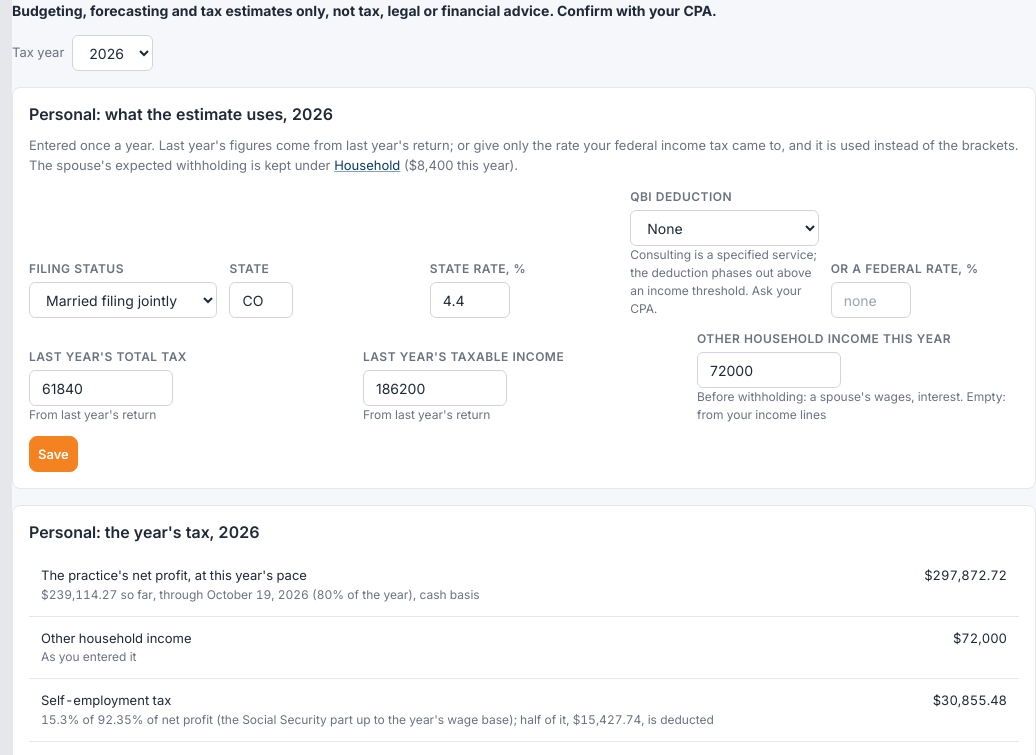
Scenario: the Taxes page (P6 M4 stop 4, decision 21) › offers the QBI deduction, off by default, with its note, and shows it when on
Expected: the text "Consulting is a specified service; the deduction phases out" is shown, x1=630 y1=247 x2=817 y2=316
Expected: the text "Less the QBI deduction" is not shown
Select "20% of net profit" in the dropdown named "QBI deduction" at (724, 228), box x1=630 y1=210 x2=819 y2=246
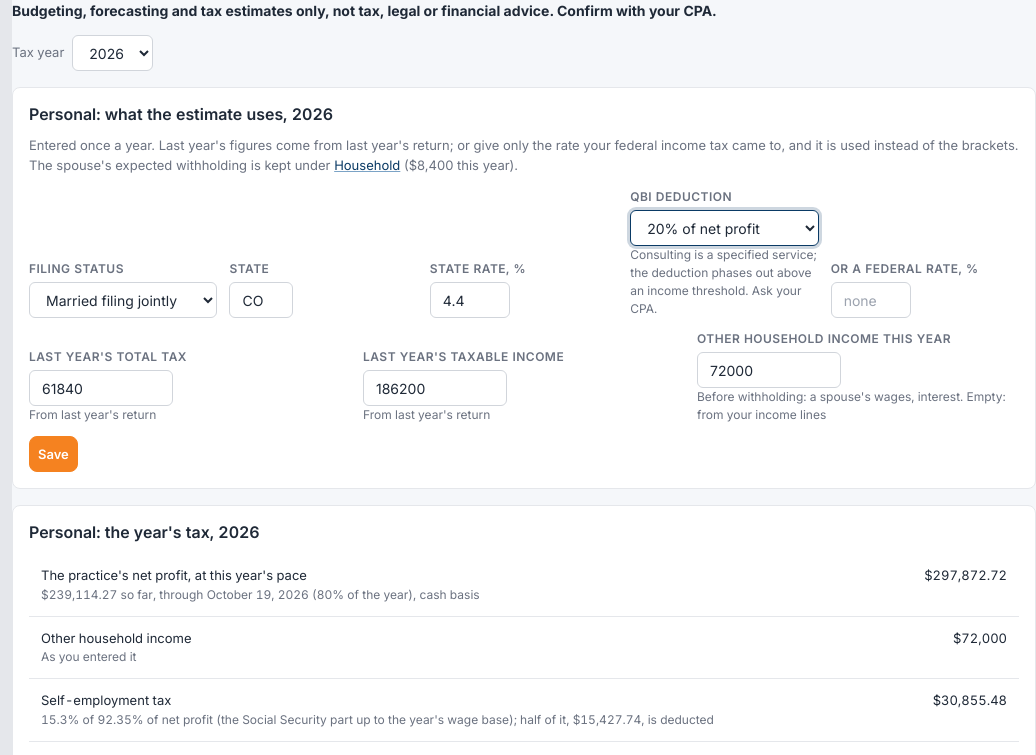
Click the button "Save" at (53, 454), box x1=29 y1=436 x2=78 y2=472
(page scrolled)
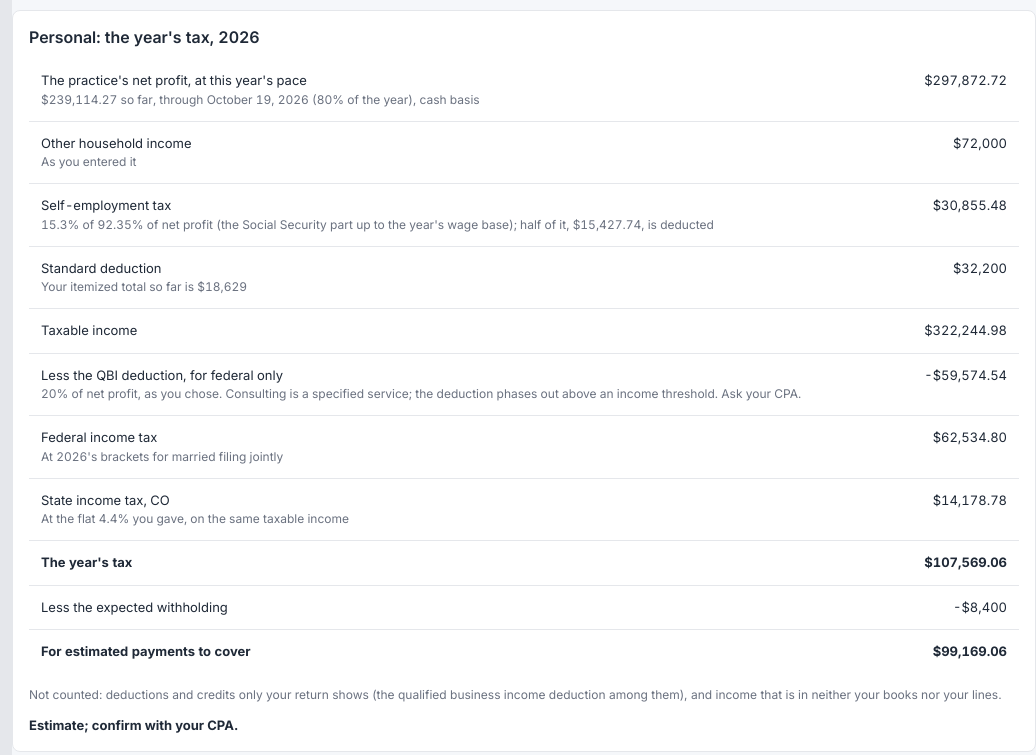
Result: the text "Less the QBI deduction, for federal only" is shown at x1=41 y1=366 x2=283 y2=382
